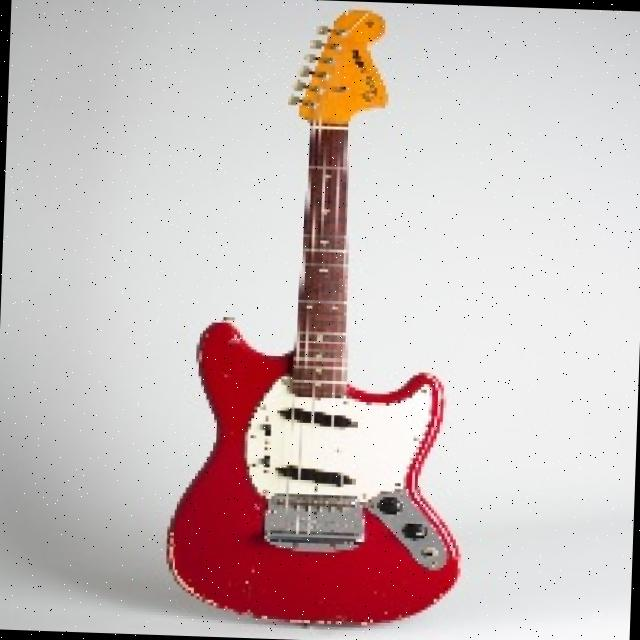guitar: (164, 1, 486, 634)
